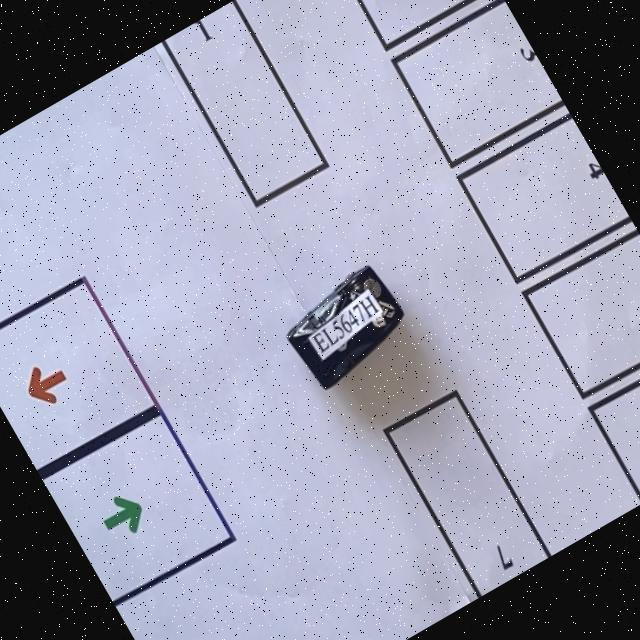car: (272, 253, 428, 402)
